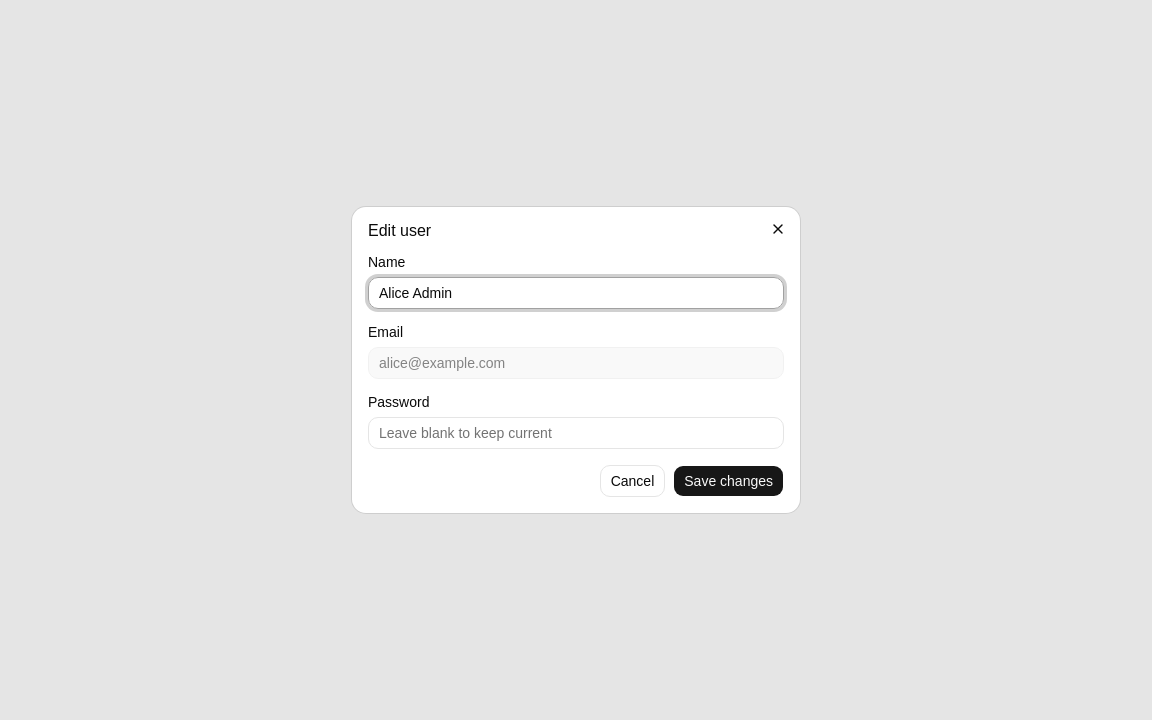
Test case: EditUserDialog › form validation › shows error when password is too short (non-empty, < 8 chars)
Type "short" into the password field labelled "Password" at (576, 433), box [368,417,784,449]
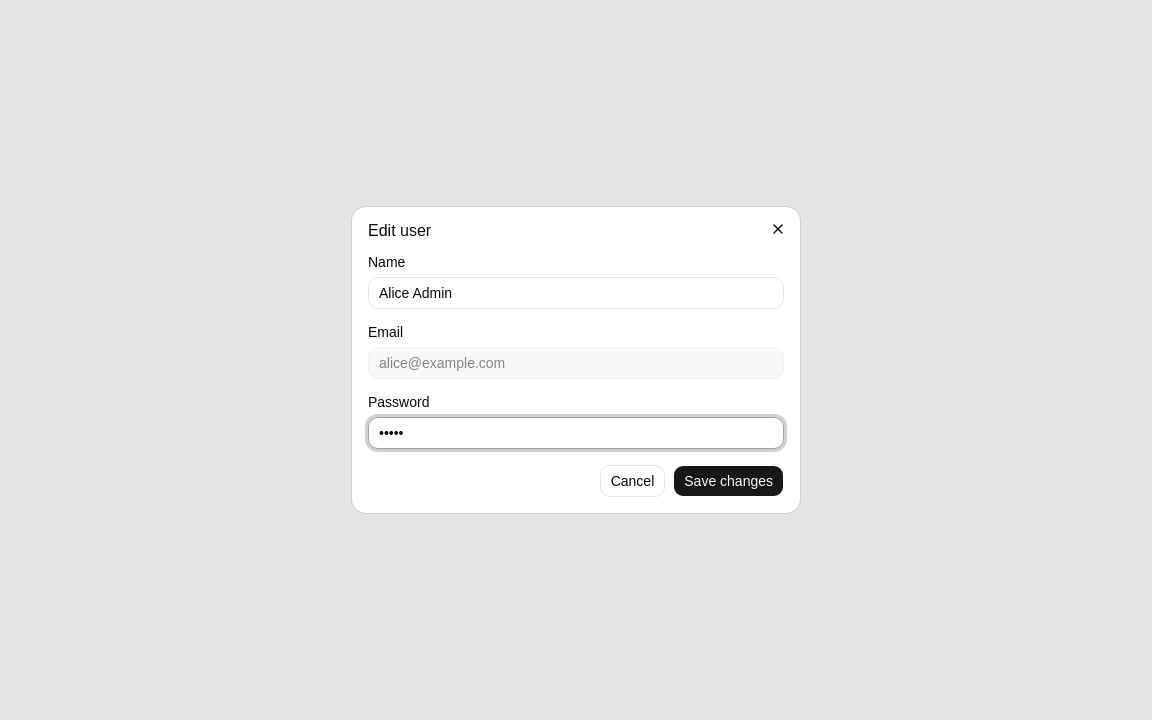
Submit the form with test id "edit-user-form", box [368,255,784,497]
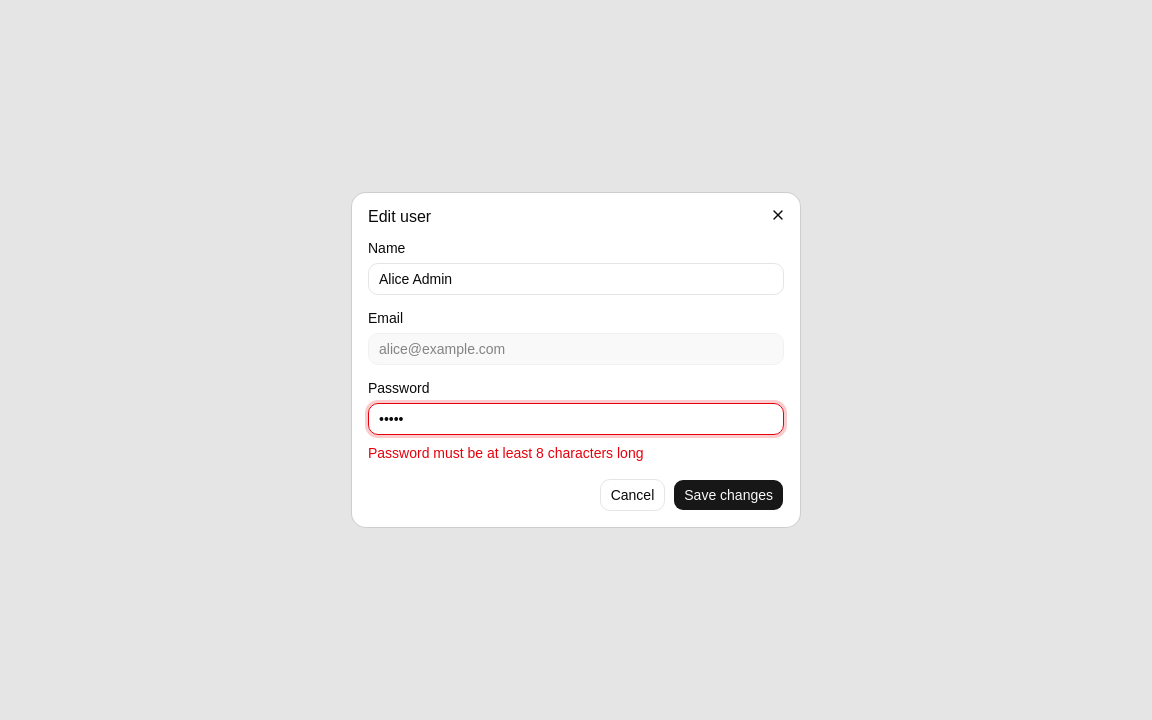
Result: the text "Password must be at least 8 characters long" is shown at [368,445,644,461]
